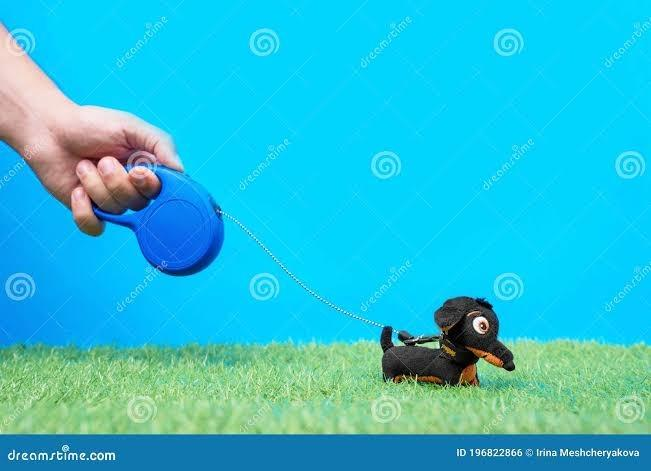non-dog: (0, 20, 185, 240), (379, 295, 516, 389)
